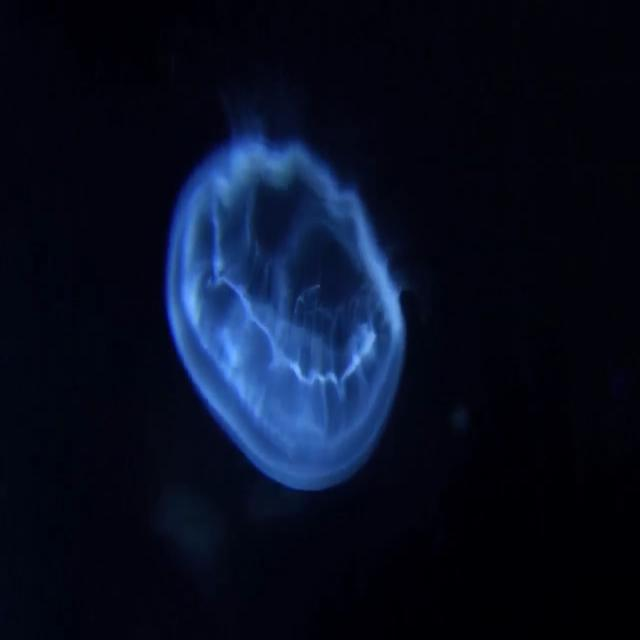Moon-jellyfish: (161, 136, 408, 493)
